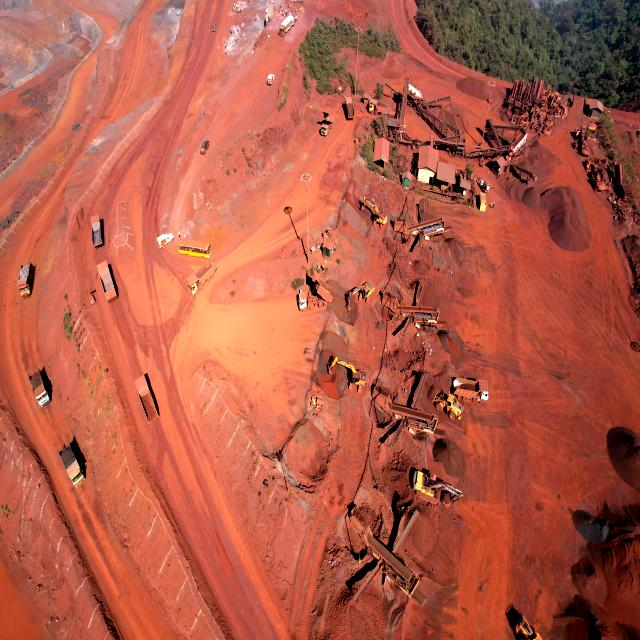Dumper truck: (133, 377, 162, 419), (59, 446, 88, 487), (98, 261, 121, 304), (189, 258, 215, 295), (30, 365, 51, 410), (454, 376, 489, 402), (297, 287, 332, 312), (19, 266, 31, 296), (319, 112, 334, 136), (366, 102, 391, 113), (345, 97, 354, 120), (93, 220, 101, 244)
Excavator: (411, 469, 463, 509), (335, 355, 369, 384), (346, 278, 373, 310), (362, 196, 386, 227), (327, 357, 334, 372)
car: (157, 232, 173, 247), (202, 141, 210, 154), (267, 73, 273, 84), (212, 22, 216, 33)
person: (178, 230, 180, 239), (493, 202, 495, 208), (282, 11, 284, 16), (294, 0, 296, 4), (289, 4, 291, 8), (491, 202, 492, 208), (296, 14, 297, 20), (286, 10, 287, 15)
